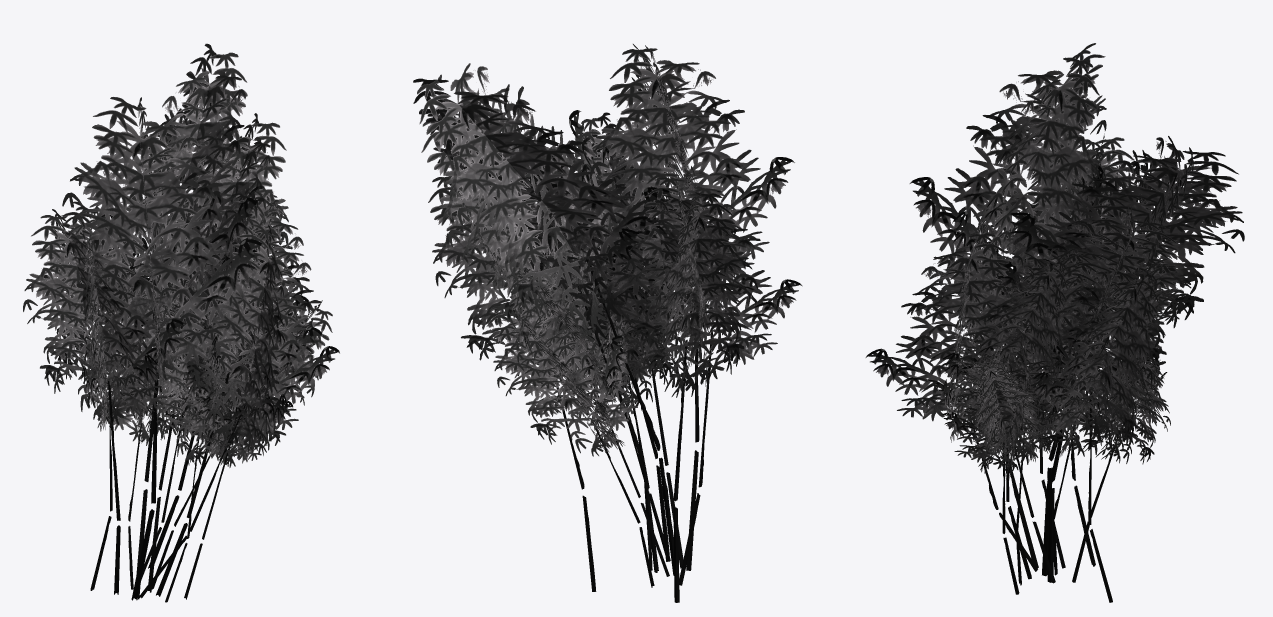
File: Bamboo_A.fbx
3 views of the same model, side by side, from view 1: azimuth 30°, elevation 25°; view 2: azimuth 150°, elevation 25°; view 3: azimuth 270°, elevation 25° (orthographic). The views are drawn at different scales.
Visible parts, largest first — view 1: bamboo_A_Rev, bamboo_A_trunk; view 2: bamboo_A_trunk, bamboo_A_Rev; view 3: bamboo_A_trunk, bamboo_A_Rev.
Boxes of the visible parts, x1,y1,x2,y2 form: bamboo_A_Rev: [44, 44, 339, 602]; bamboo_A_trunk: [23, 43, 322, 602]; bamboo_A_trunk: [413, 44, 802, 591]; bamboo_A_Rev: [414, 48, 799, 602]; bamboo_A_trunk: [865, 43, 1244, 602]; bamboo_A_Rev: [867, 57, 1243, 602].
Size of the model in its own units: 126 by 206 by 135.
